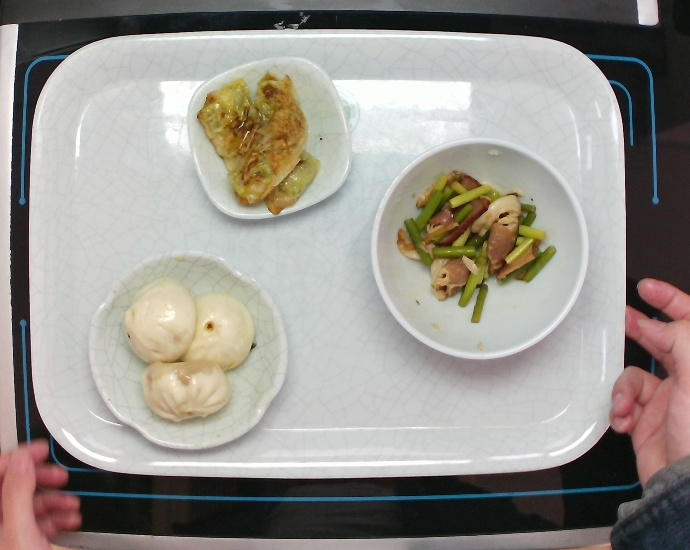JYsf-Ao_Yuan_Wan: (85, 251, 293, 452)
JYsf-Fan_Wan: (370, 135, 594, 364)
JYsf-Si_Fang_Die: (181, 53, 351, 224)
